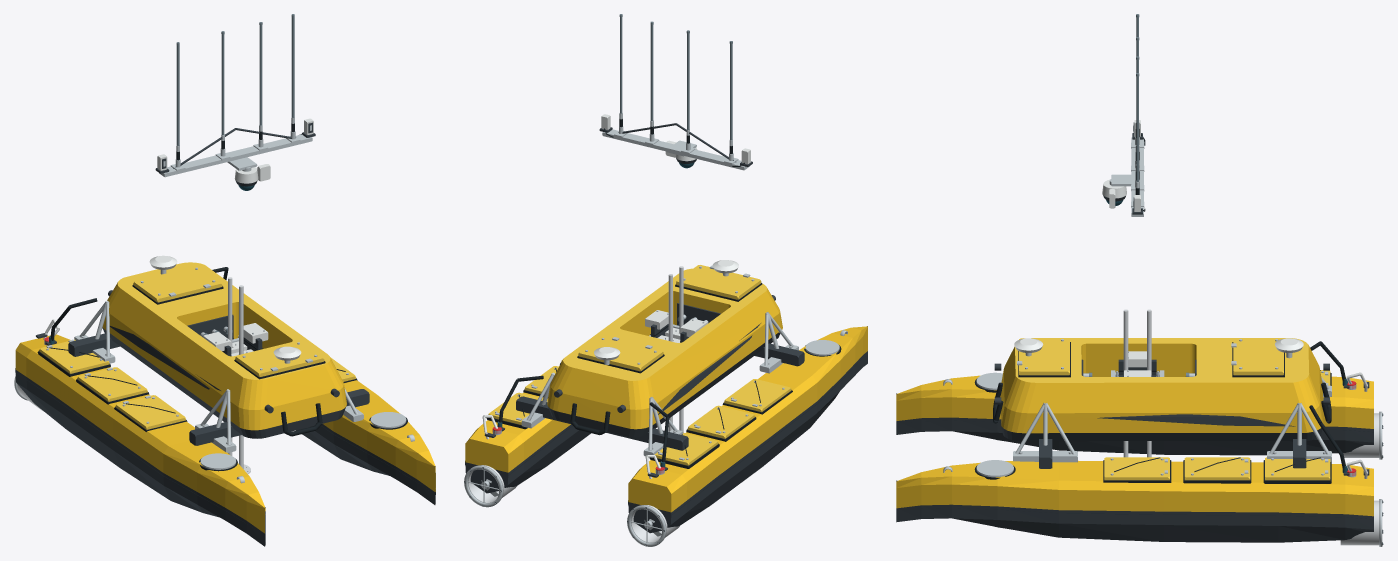
Rendered from me120-reference.glb.
The picture shows the model from 3 angles, left to right: view 1: azimuth 30°, elevation 25°; view 2: azimuth 150°, elevation 25°; view 3: azimuth 270°, elevation 25°; orthographic projection. The views are drawn at different scales.
Parts seen in each view (by area): view 1: equipment_cabin, hull_port, hull_starboard, antenna, bridge_frame, payload_lifter_fixed, payload_lifter_moving; view 2: equipment_cabin, hull_port, hull_starboard, antenna, bridge_frame, thrusters, payload_lifter_fixed, payload_lifter_moving; view 3: hull_starboard, equipment_cabin, hull_port, bridge_frame, antenna, thrusters, payload_lifter_moving, payload_lifter_fixed.
Part boxes in pixels (left/top/right/bottom): equipment_cabin: left=102, top=255, right=346, bottom=438; hull_port: left=15, top=298, right=265, bottom=546; hull_starboard: left=212, top=267, right=435, bottom=504; antenna: left=155, top=14, right=315, bottom=190; bridge_frame: left=68, top=300, right=369, bottom=452; payload_lifter_fixed: left=203, top=323, right=268, bottom=356; payload_lifter_moving: left=228, top=277, right=243, bottom=468; equipment_cabin: left=547, top=260, right=782, bottom=437; hull_port: left=628, top=326, right=867, bottom=533; hull_starboard: left=465, top=359, right=590, bottom=493; antenna: left=599, top=14, right=752, bottom=170; bridge_frame: left=516, top=312, right=804, bottom=457; thrusters: left=464, top=415, right=679, bottom=546; payload_lifter_fixed: left=645, top=310, right=707, bottom=342; payload_lifter_moving: left=668, top=266, right=683, bottom=432; hull_starboard: left=896, top=405, right=1373, bottom=542; equipment_cabin: left=993, top=338, right=1331, bottom=441; hull_port: left=896, top=341, right=1373, bottom=455; bridge_frame: left=1013, top=377, right=1331, bottom=468; antenna: left=1102, top=14, right=1145, bottom=216; thrusters: left=1340, top=372, right=1383, bottom=546; payload_lifter_moving: left=1123, top=309, right=1151, bottom=457; payload_lifter_fixed: left=1111, top=351, right=1164, bottom=376.
Size of the model in its own units: 1.41 by 2.7 by 2.55.
